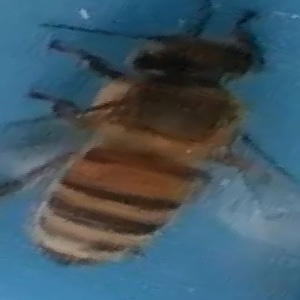bee: (27, 1, 298, 277)
